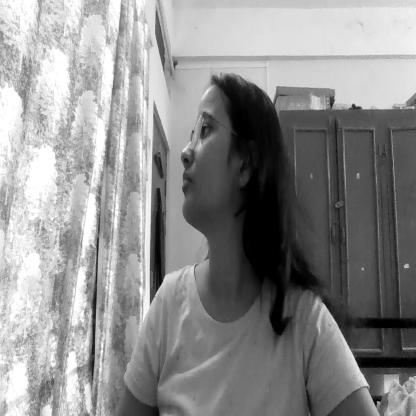Distracted: (178, 79, 262, 237)
